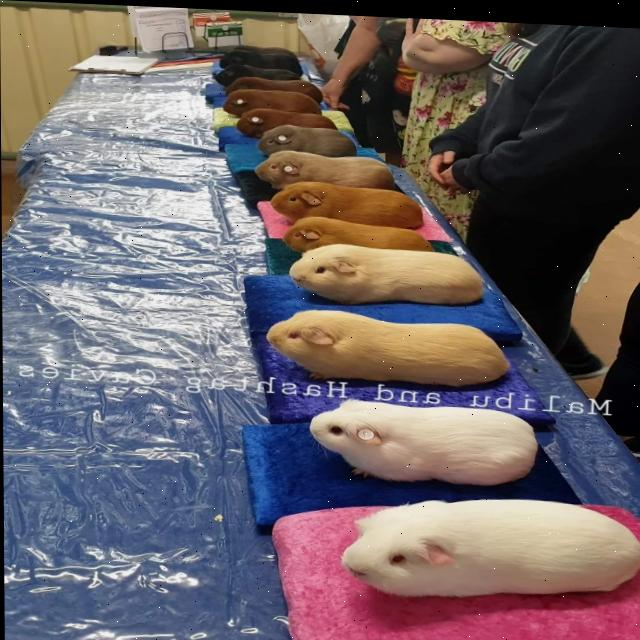guinea pig: (336, 485, 640, 604), (306, 394, 541, 486), (263, 302, 511, 386), (284, 238, 490, 306), (267, 175, 428, 224), (253, 144, 399, 192), (281, 215, 435, 255), (231, 104, 343, 139), (257, 120, 362, 157), (214, 82, 326, 114), (220, 70, 333, 97), (217, 45, 312, 74), (214, 61, 323, 86), (218, 38, 301, 53)
